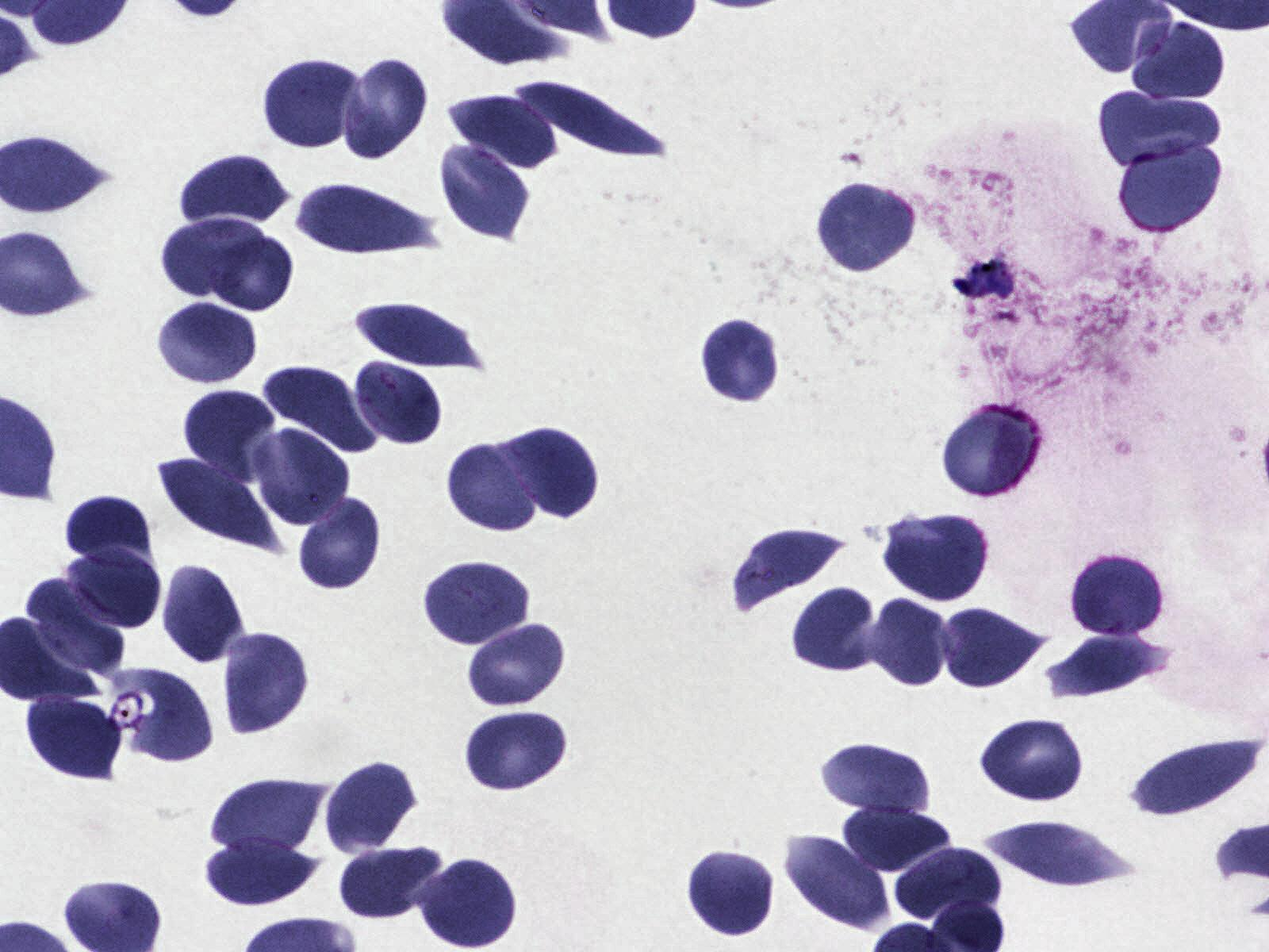Uninfected: (293, 181, 440, 257), (522, 82, 670, 155), (1113, 140, 1223, 232), (1098, 89, 1225, 168), (25, 576, 124, 677), (817, 181, 922, 274), (263, 368, 374, 455), (162, 460, 270, 549), (261, 60, 364, 152), (458, 620, 563, 710), (427, 560, 531, 649), (1134, 742, 1259, 816), (324, 760, 420, 856), (985, 820, 1125, 885), (355, 298, 486, 366), (785, 836, 886, 924), (888, 517, 990, 604), (980, 718, 1083, 804), (161, 566, 247, 668), (440, 144, 531, 240), (462, 712, 565, 796), (258, 428, 348, 524), (413, 861, 513, 947), (942, 602, 1045, 685), (182, 386, 276, 476), (161, 298, 256, 386), (943, 406, 1038, 494), (209, 780, 321, 854), (506, 428, 599, 517), (449, 443, 539, 534), (344, 62, 425, 163), (1131, 19, 1225, 105), (736, 529, 839, 607), (688, 850, 778, 938), (224, 636, 305, 733), (29, 697, 119, 784), (447, 95, 554, 168), (843, 807, 952, 877), (1071, 551, 1159, 637), (351, 362, 442, 444), (1057, 629, 1166, 697), (72, 546, 162, 628), (895, 849, 1001, 918), (211, 840, 316, 909), (870, 599, 949, 690), (187, 158, 289, 228), (700, 318, 782, 404), (131, 670, 210, 759), (165, 221, 257, 297), (794, 587, 876, 670), (300, 503, 377, 591), (823, 746, 926, 811), (68, 495, 157, 569), (339, 850, 440, 915), (212, 234, 292, 312), (956, 246, 1016, 299)
